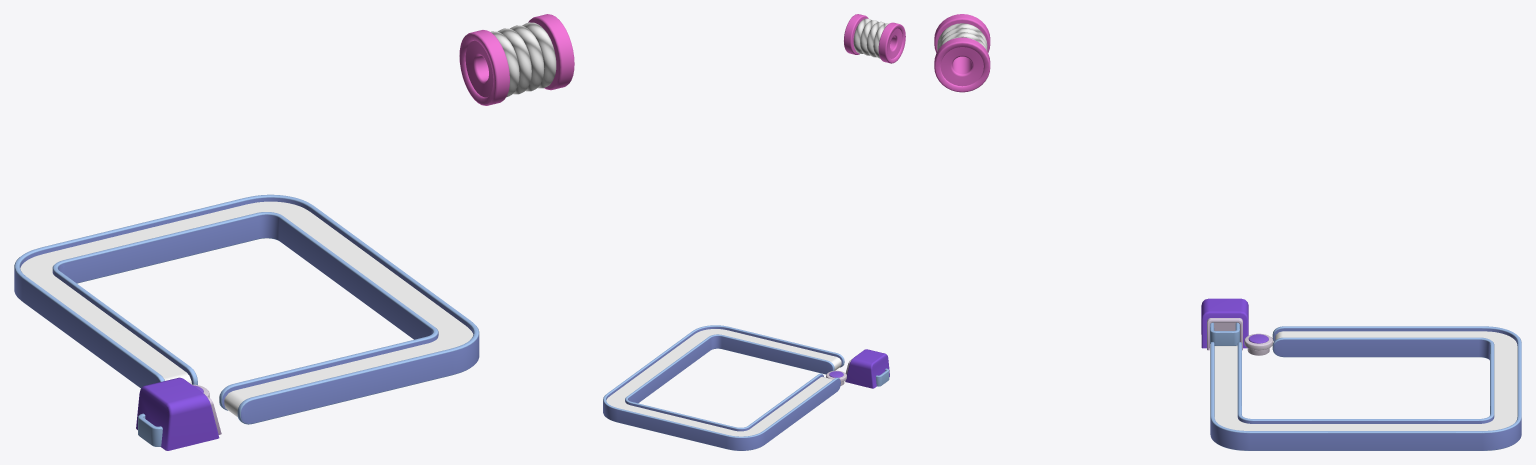
The model's file is hieu.fbx.
The picture shows the model from 3 angles, left to right: view 1: azimuth 30°, elevation 25°; view 2: azimuth 150°, elevation 25°; view 3: azimuth 270°, elevation 25°; orthographic projection. The views are drawn at different scales.
Visible parts, largest first — view 1: Conveyor, activeVisual, Machine_3A, Rope_Circle (5), Rope_Circle (6), Rope_Circle (4), Rope_Circle (7), Machine_3B; view 2: Conveyor, activeVisual, Machine_3A; view 3: Conveyor, activeVisual, Machine_3A.
Part boxes in pixels (<box>): Conveyor: <box>14,194,479,424</box>; activeVisual: <box>459,14,574,105</box>; Machine_3A: <box>136,377,221,450</box>; Rope_Circle (5): <box>510,25,544,91</box>; Rope_Circle (6): <box>498,28,531,94</box>; Rope_Circle (4): <box>522,22,556,88</box>; Rope_Circle (7): <box>491,31,519,97</box>; Machine_3B: <box>138,413,162,446</box>; Conveyor: <box>603,325,844,450</box>; activeVisual: <box>844,14,905,63</box>; Machine_3A: <box>845,349,889,388</box>; Conveyor: <box>1210,326,1521,450</box>; activeVisual: <box>934,14,990,92</box>; Machine_3A: <box>1201,298,1248,350</box>.
Bounding box in the file's own units: 307 × 425 × 612.
